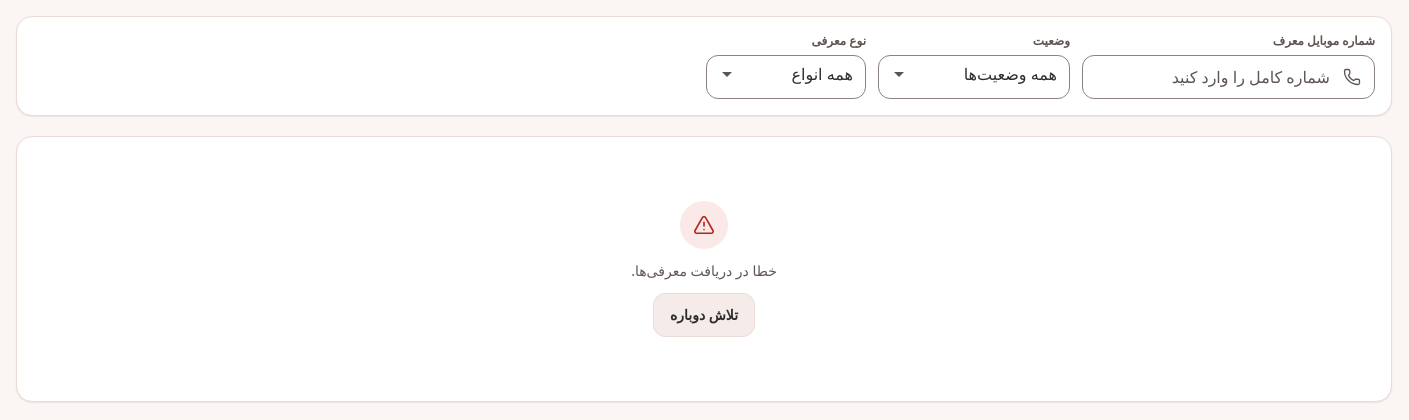
Scenario: ReferralsView › shows a distinct error state (not the empty state) when the fetch fails, and retry reloads
Click the button with test id "retry-load" at (704, 315), box top-left (653, 293), bottom-right (755, 337)
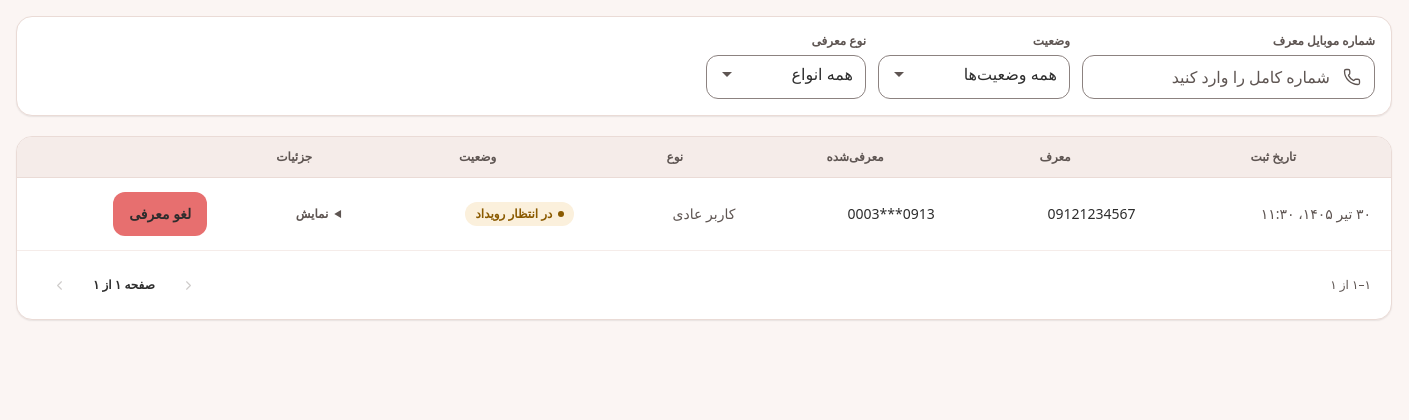
Expected: the text "09121234567" is shown, top-left (955, 178), bottom-right (1156, 250)
